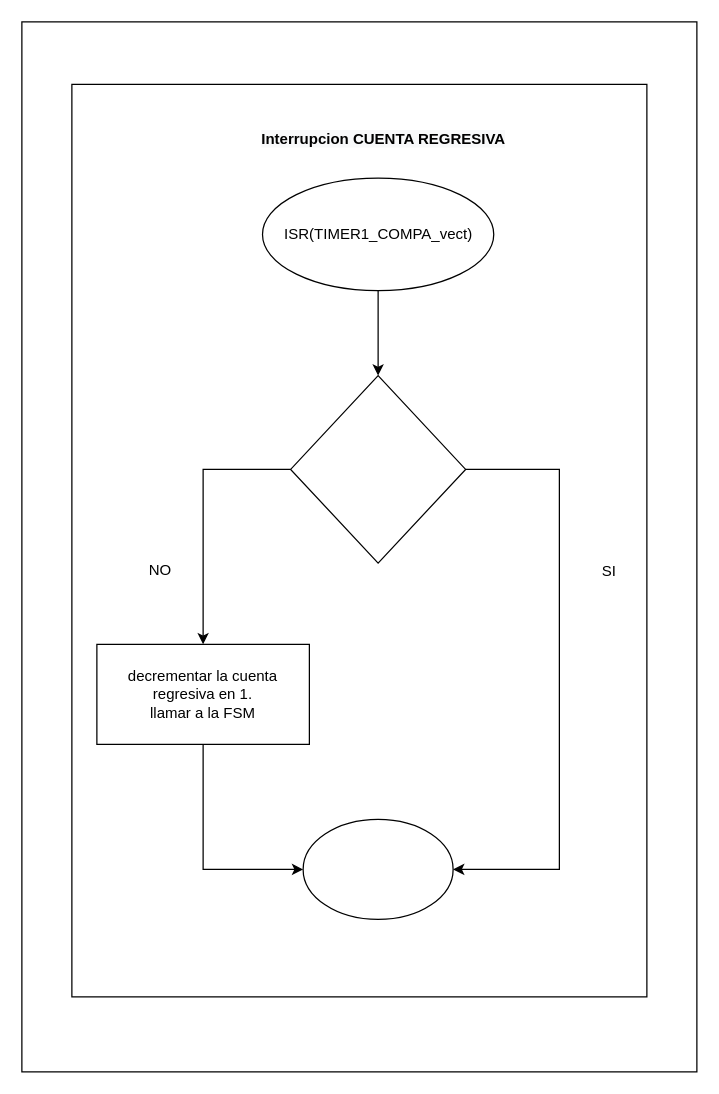
Some shapes in this 719 by 1094 pixel diagram are drawn without their labels. The centre of each missing label's shape, as x and y in pixels:
"la cuenta regresiva esta en cero?" goes at point 377,468.
"SALIR" goes at point 377,868.
